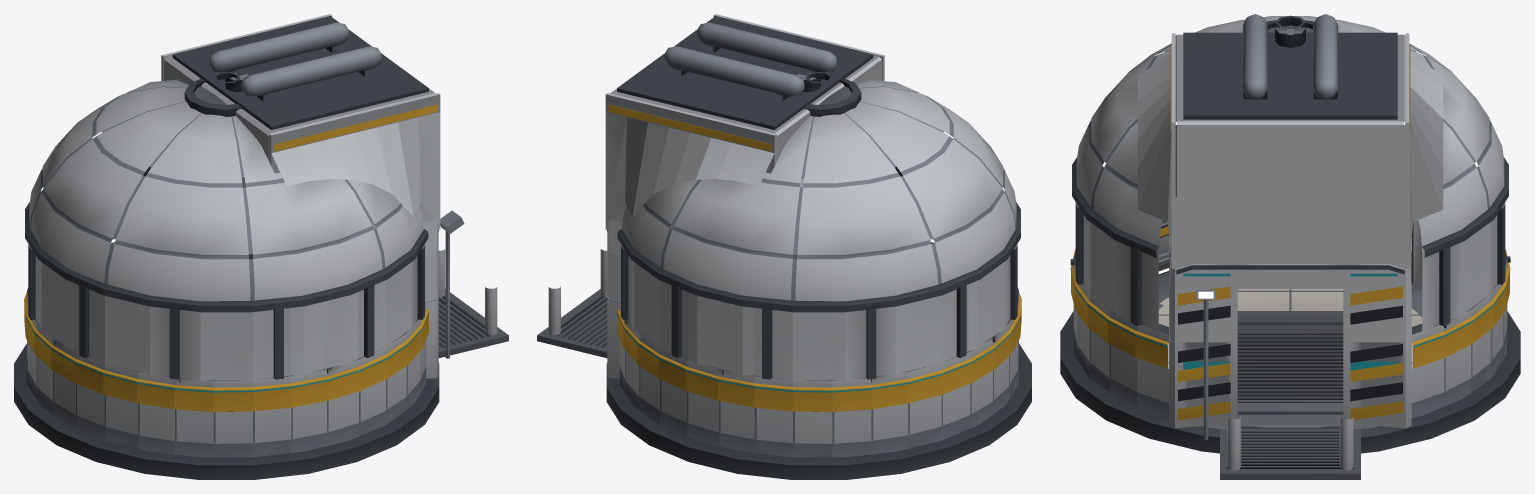
Rendered from airlock_m_far.glb.
3 views of the same model, side by side, from view 1: azimuth 30°, elevation 25°; view 2: azimuth 150°, elevation 25°; view 3: azimuth 270°, elevation 25° (orthographic). The views are drawn at different scales.
Visible parts, largest first — view 1: Roof, Base; view 2: Roof, Base; view 3: Roof, Base, Interior.
Boxes of the visible parts, x1,y1,x2,y2 form: Roof: (25, 14, 464, 380); Base: (14, 238, 508, 479); Roof: (605, 14, 1020, 380); Base: (537, 238, 1031, 479); Roof: (1072, 14, 1508, 355); Base: (1060, 220, 1520, 479); Interior: (1158, 251, 1422, 402).
Bounding box in the file's own units: 7.71 × 5.51 × 6.54.
